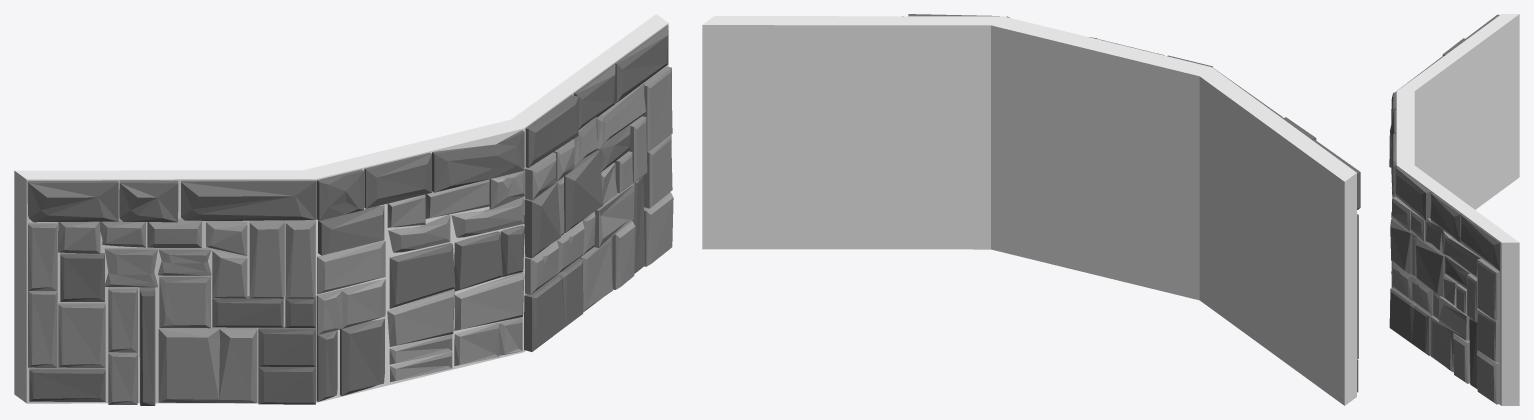
Rendered from _FOUNDATION_01_1.fbx.
3 renders of one model, left to right at view 1: azimuth 30°, elevation 25°; view 2: azimuth 150°, elevation 25°; view 3: azimuth 270°, elevation 25°, orthographic. The views are drawn at different scales.
Visible parts, largest first — view 1: FOUNDATION_01_1; view 2: FOUNDATION_01_1; view 3: FOUNDATION_01_1.
Boxes of the visible parts, <box> form: FOUNDATION_01_1: <box>14,14,673,405</box>; FOUNDATION_01_1: <box>702,14,1360,405</box>; FOUNDATION_01_1: <box>1389,14,1519,405</box>.
Size of the model in its own units: 300 by 100 by 72.23.
